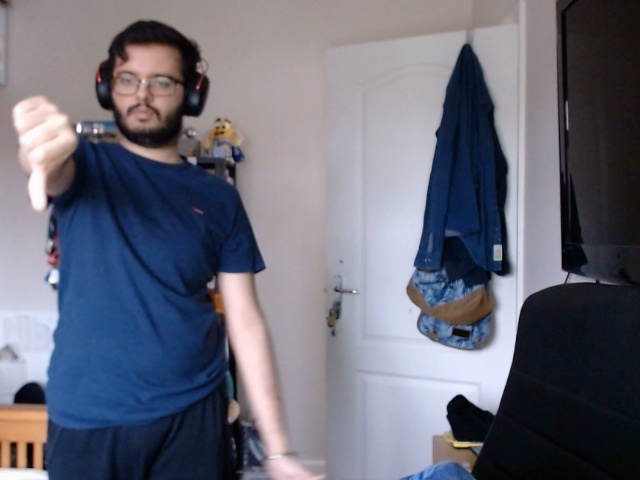Thumbs down: (14, 89, 82, 226)
